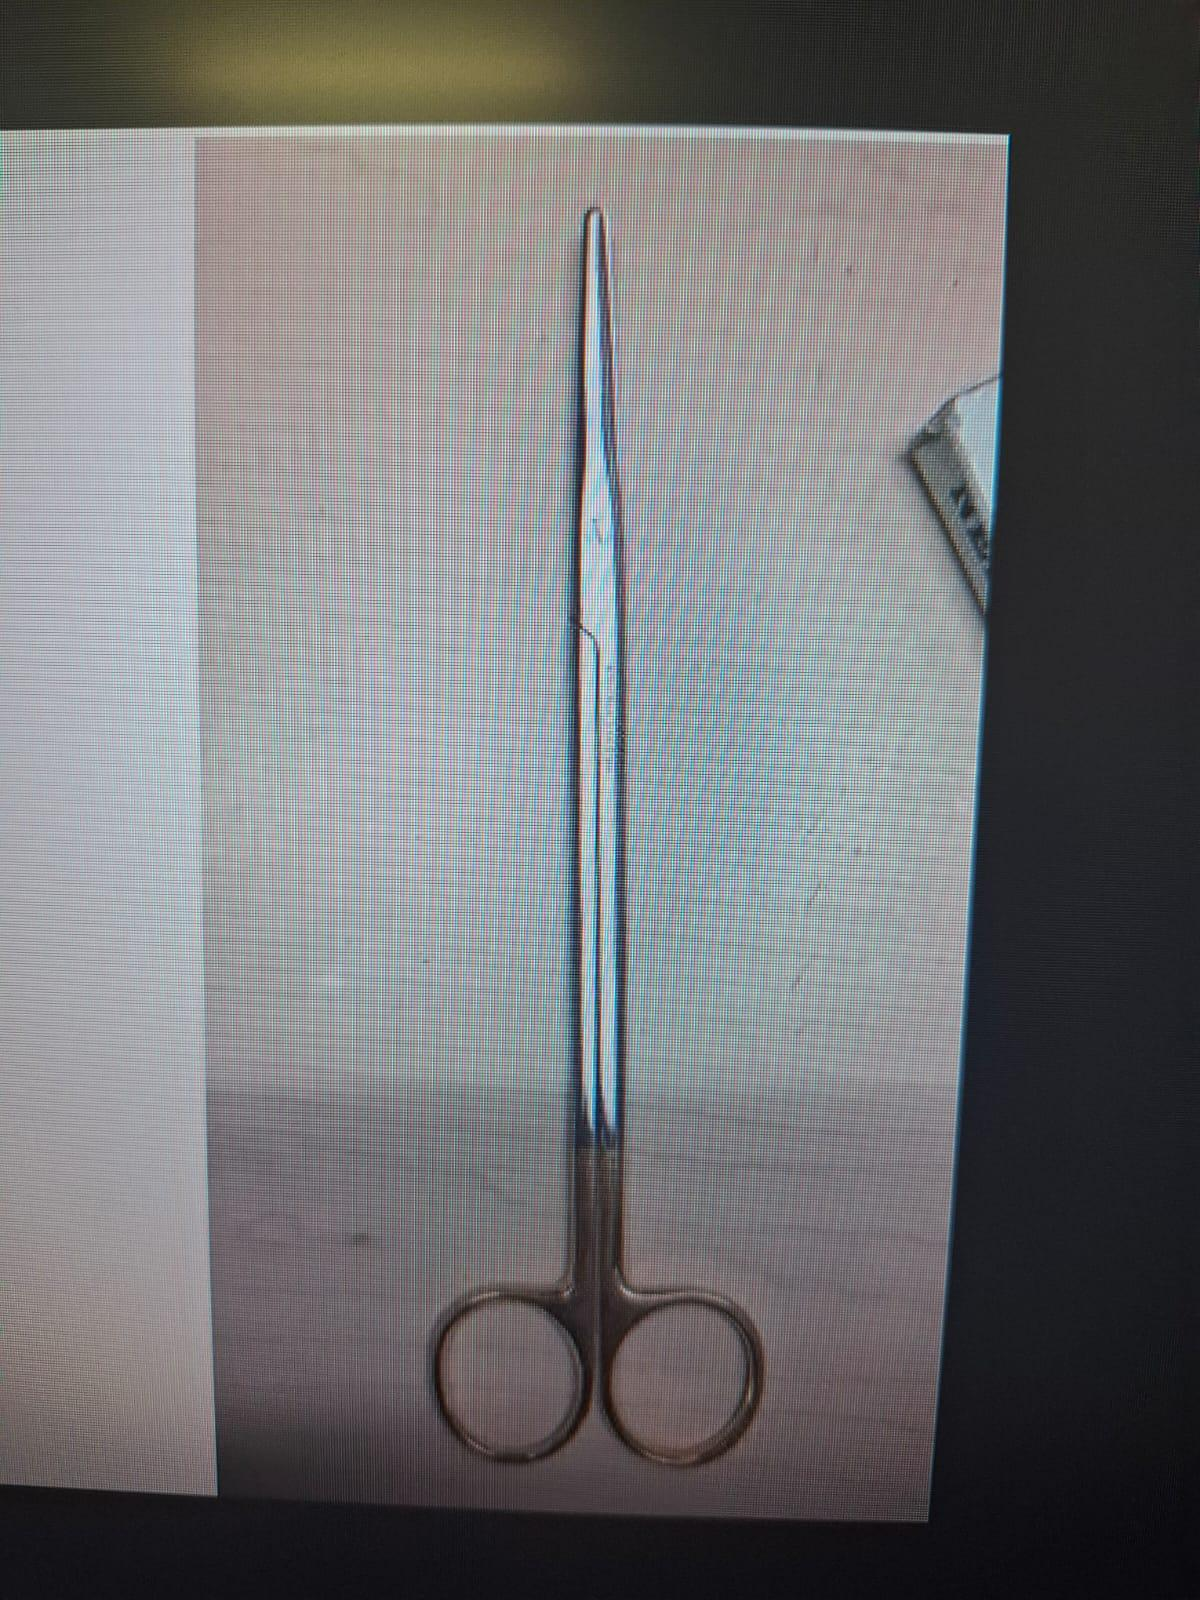Metzenbaum Sciccors: (430, 193, 768, 1475)
